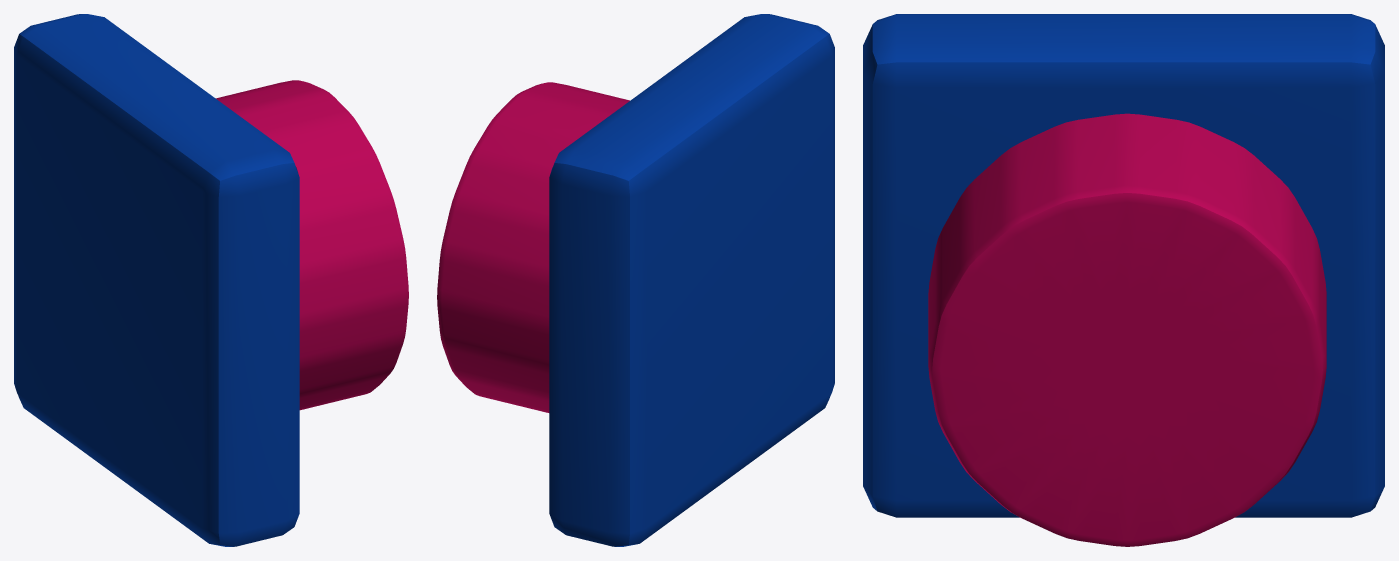
The model's file is button.fbx.
3 views of the same model, side by side, from view 1: azimuth 30°, elevation 25°; view 2: azimuth 150°, elevation 25°; view 3: azimuth 270°, elevation 25° (orthographic). The views are drawn at different scales.
Parts seen in each view (by area): view 1: pCube2, pCylinder5; view 2: pCube2, pCylinder5; view 3: pCylinder5, pCube2.
Boxes of the visible parts, bbox=[...] form: pCube2: bbox=[14, 14, 299, 546]; pCylinder5: bbox=[216, 80, 408, 410]; pCube2: bbox=[549, 14, 834, 546]; pCylinder5: bbox=[437, 82, 629, 412]; pCylinder5: bbox=[928, 113, 1326, 546]; pCube2: bbox=[863, 14, 1384, 517].
Size of the model in its own units: 1.58 by 2.61 by 2.61.
